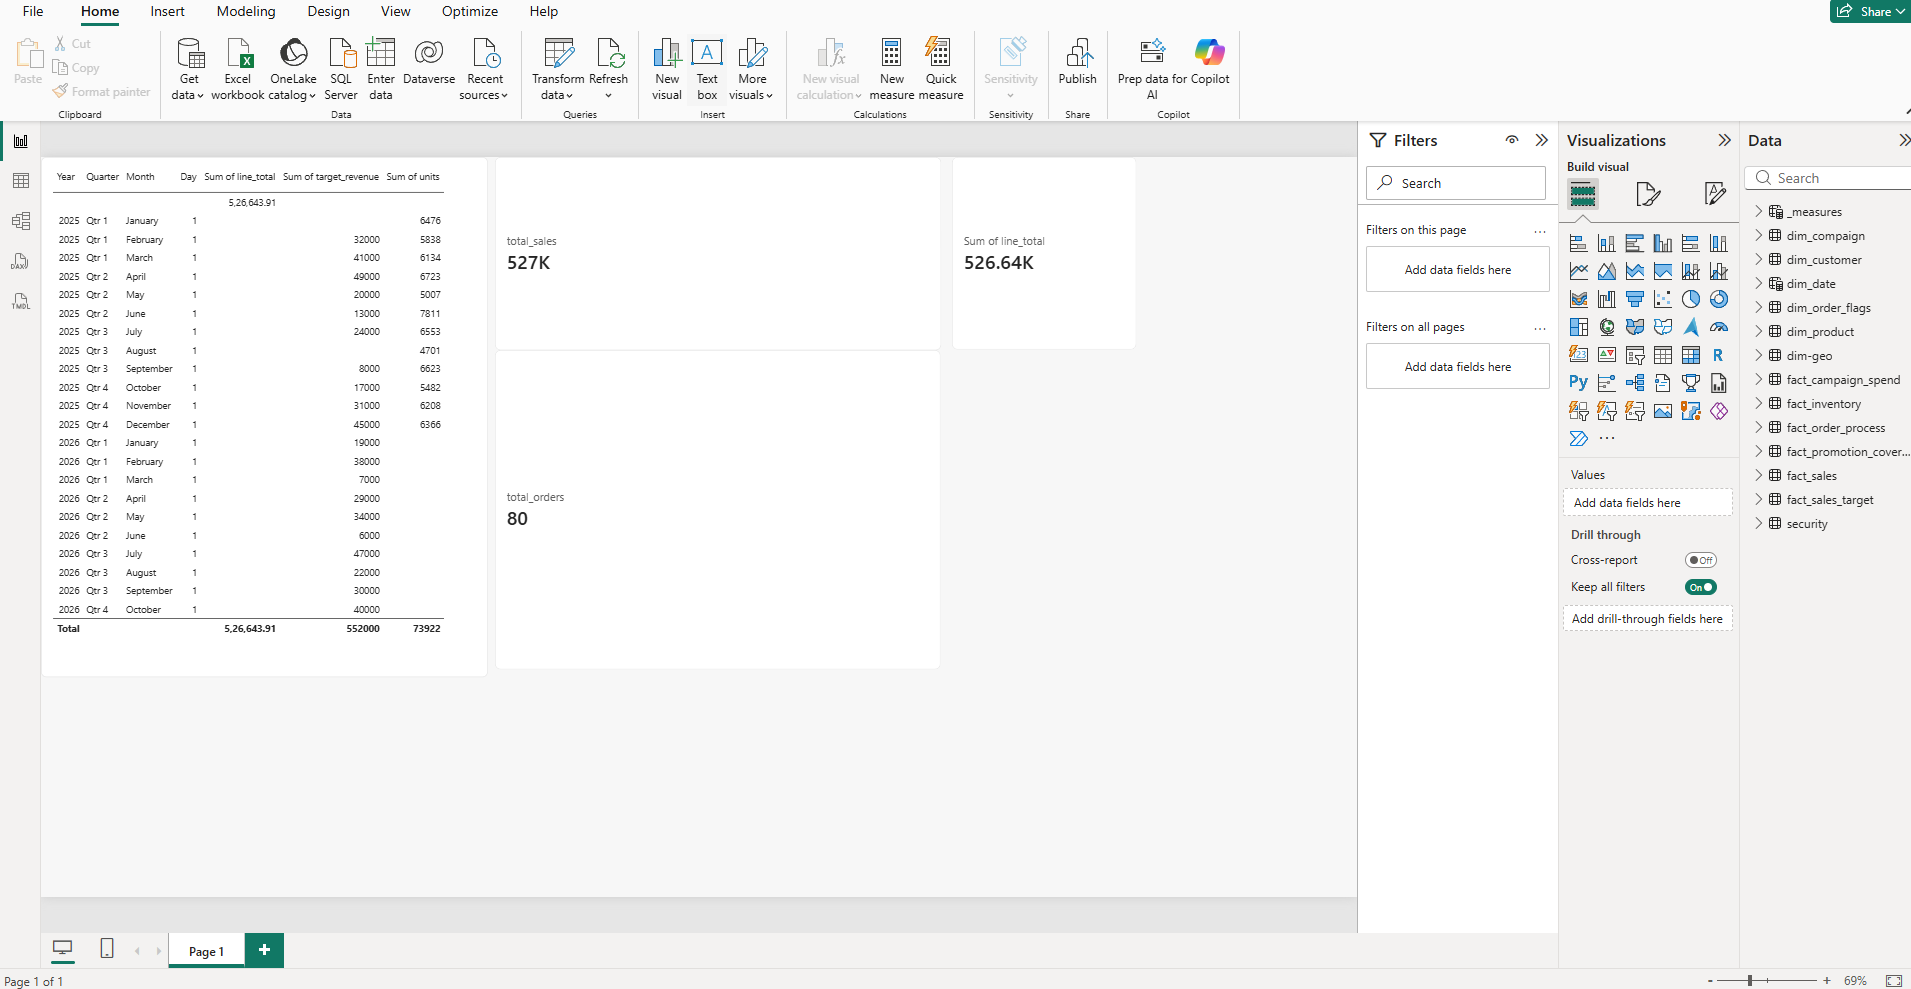

What the dashboard file says about the page in this screenshot:
{"tool":"powerbi","page":{"name":"Page 1","canvas":[1920,1080],"ordinal":0},"visuals":[{"type":"cardVisual","fields":{"Data":["Sum(fact_sales.LineTotal)"]},"box":[1329.1,0,269.9,281.6],"z":0},{"type":"tableEx","fields":{"Values":["dim_date.Date.Variation.Date Hierarchy.Year","dim_date.Date.Variation.Date Hierarchy.Quarter","dim_date.Date.Variation.Date Hierarchy.Month","dim_date.Date.Variation.Date Hierarchy.Day","Sum(fact_sales.line_total)","Sum(fact_sales_target.target_revenue)","Sum(fact_inventory.units)"]},"box":[0,0,652.2,758.7],"z":2},{"type":"cardVisual","fields":{"Data":["_measures.total_sales"]},"box":[662.8,0,651.1,282.2],"z":3},{"type":"cardVisual","fields":{"Data":["_measures.total_orders"]},"box":[662.4,281.6,650.7,466.9],"z":4}]}

Visuals, with their boxes on the page's 1920x1080 design canvas (x1, y1, x2, y2). These are canvas units, not pixel positions in the 1911x989 screenshot, which may show the page scaled, cropped or inside an application window:
cardVisual - Sum(fact_sales.LineTotal): <box>1329,0,1599,282</box>
tableEx - dim_date.Date.Variation.Date Hierarchy.Year x dim_date.Date.Variation.Date Hierarchy.Quarter: <box>0,0,652,759</box>
cardVisual - _measures.total_sales: <box>663,0,1314,282</box>
cardVisual - _measures.total_orders: <box>662,282,1313,748</box>
